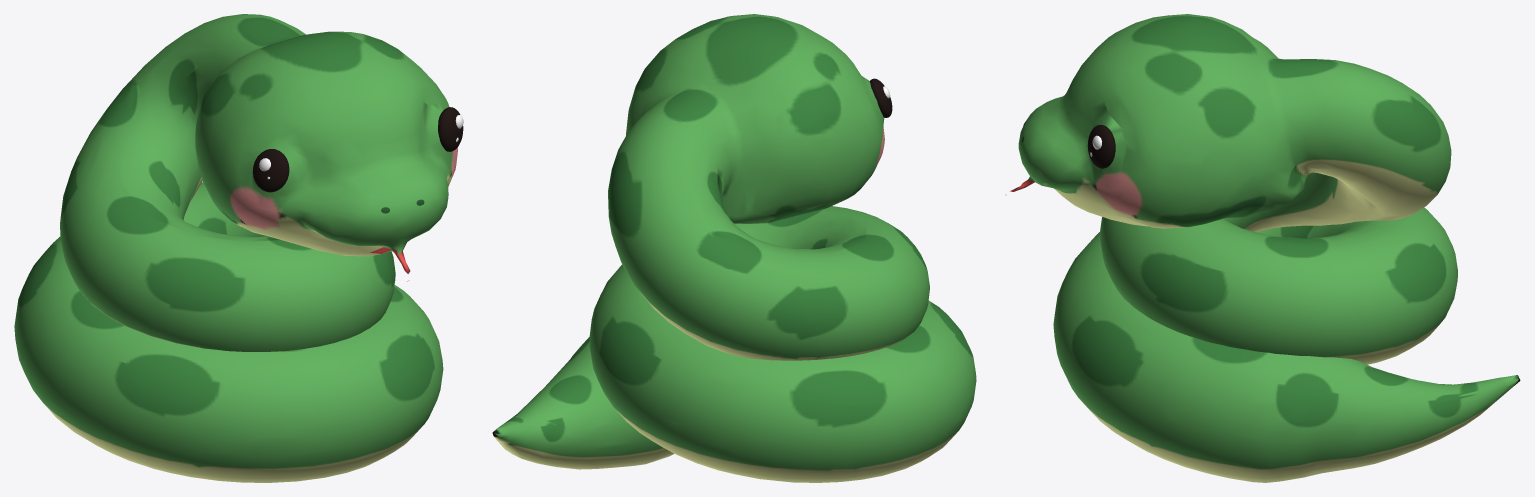
File: snake.glb
The picture shows the model from 3 angles, left to right: view 1: azimuth 30°, elevation 25°; view 2: azimuth 150°, elevation 25°; view 3: azimuth 270°, elevation 25°; orthographic projection. The views are drawn at different scales.
Parts seen in each view (by area): view 1: Mesh_0.002; view 2: Mesh_0.002; view 3: Mesh_0.002.
Boxes of the visible parts, box(x1,y1,x2,y2) form: Mesh_0.002: box(14, 14, 463, 482); Mesh_0.002: box(492, 14, 976, 482); Mesh_0.002: box(1005, 14, 1520, 482).
Bounding box in the file's own units: 1.22 × 1.3 × 1.47.
1 material, 1 textured.
